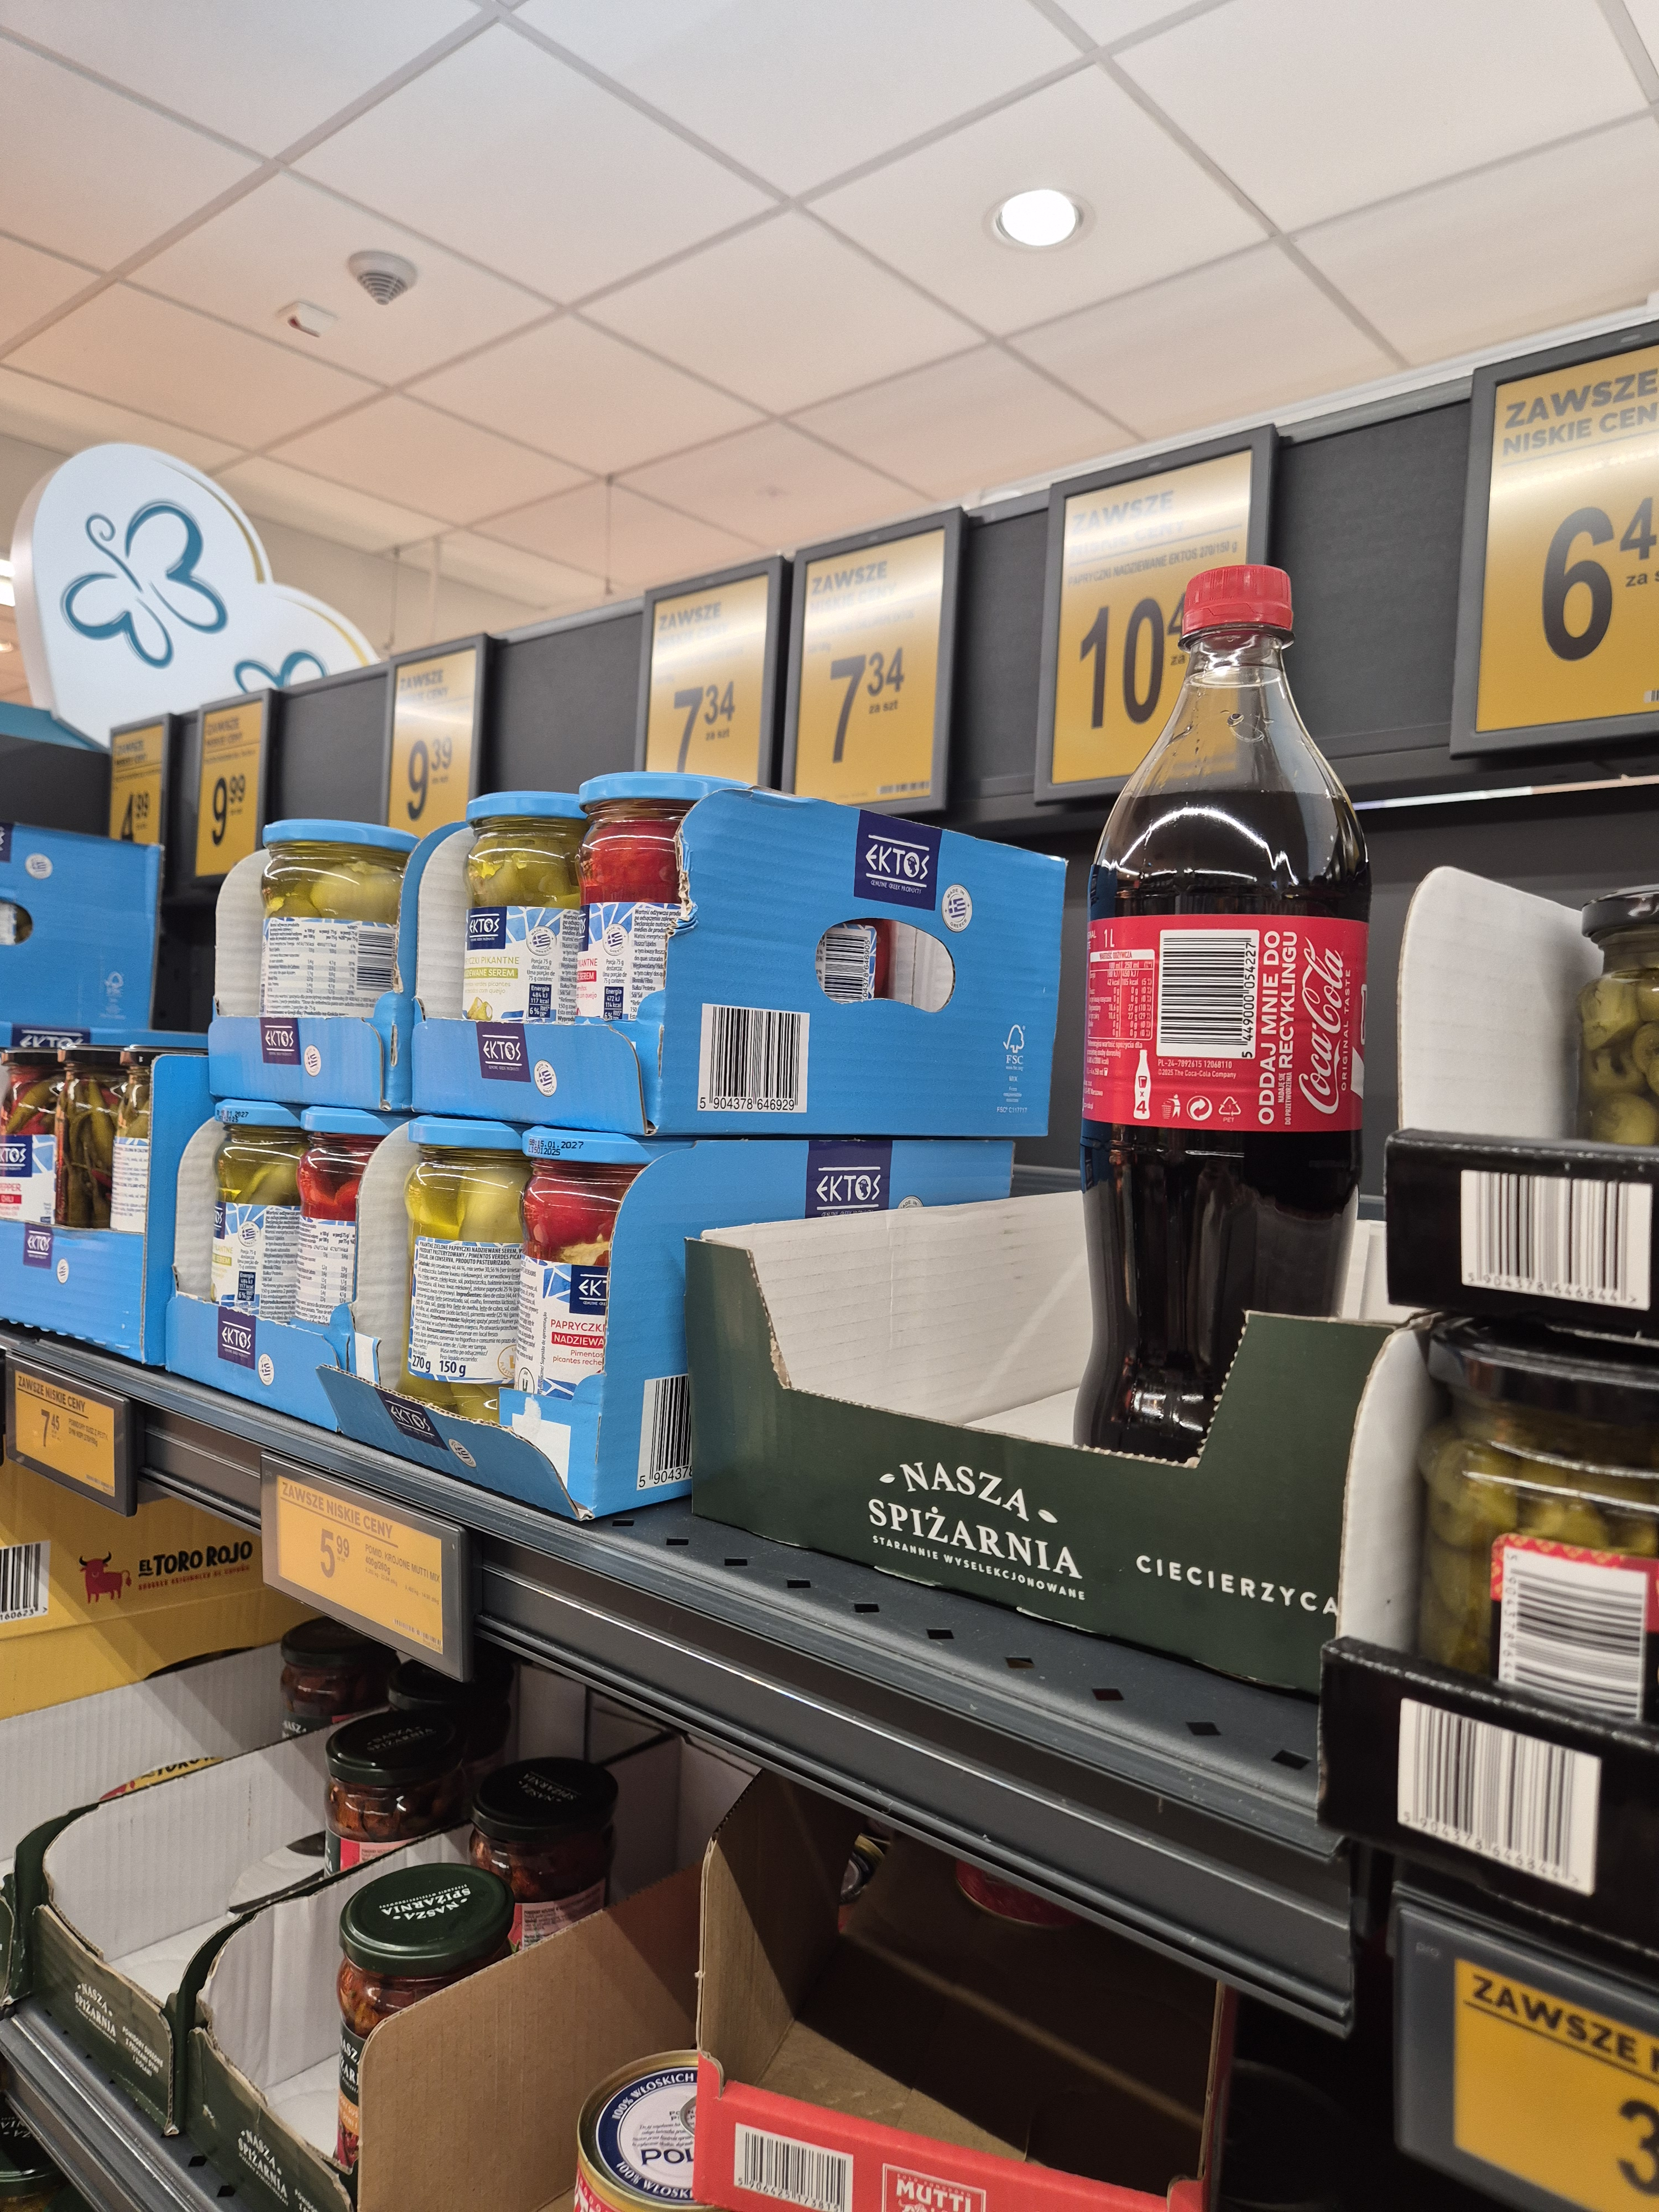Coca Cola: (1093, 559, 1396, 1480)
